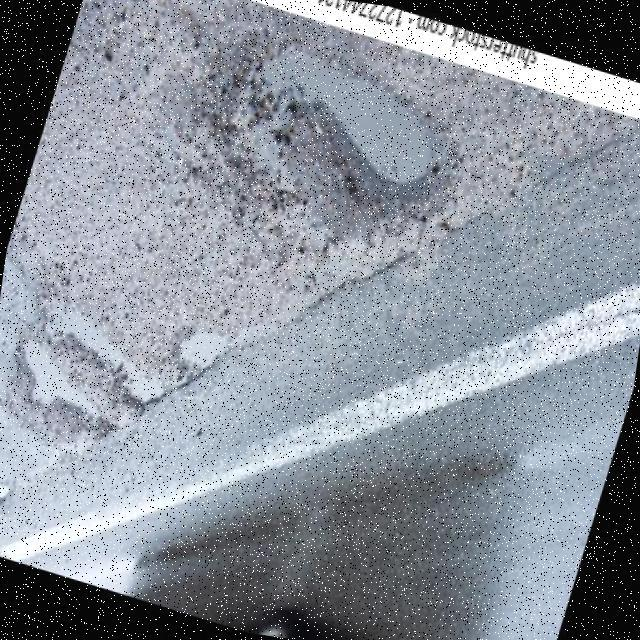Pothole: (264, 53, 435, 185), (28, 343, 95, 415), (60, 311, 121, 364), (183, 333, 225, 361), (132, 379, 164, 402)
